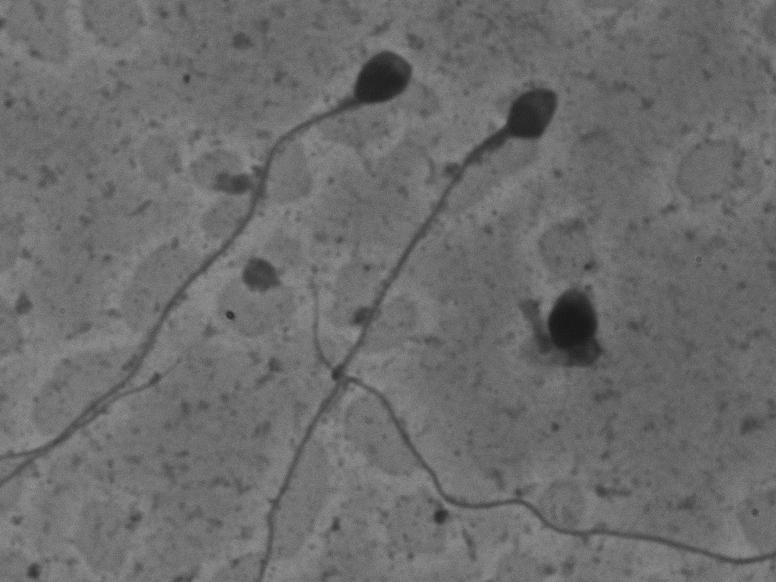Abnormal: (15, 30, 448, 492), (226, 74, 580, 569), (496, 269, 639, 400)
